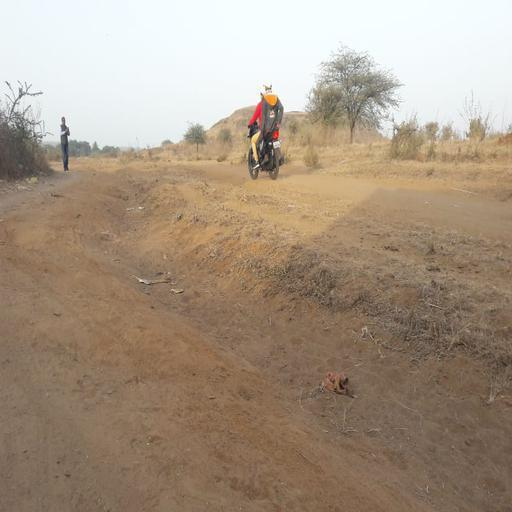vehicle_track: (296, 174, 512, 244)
